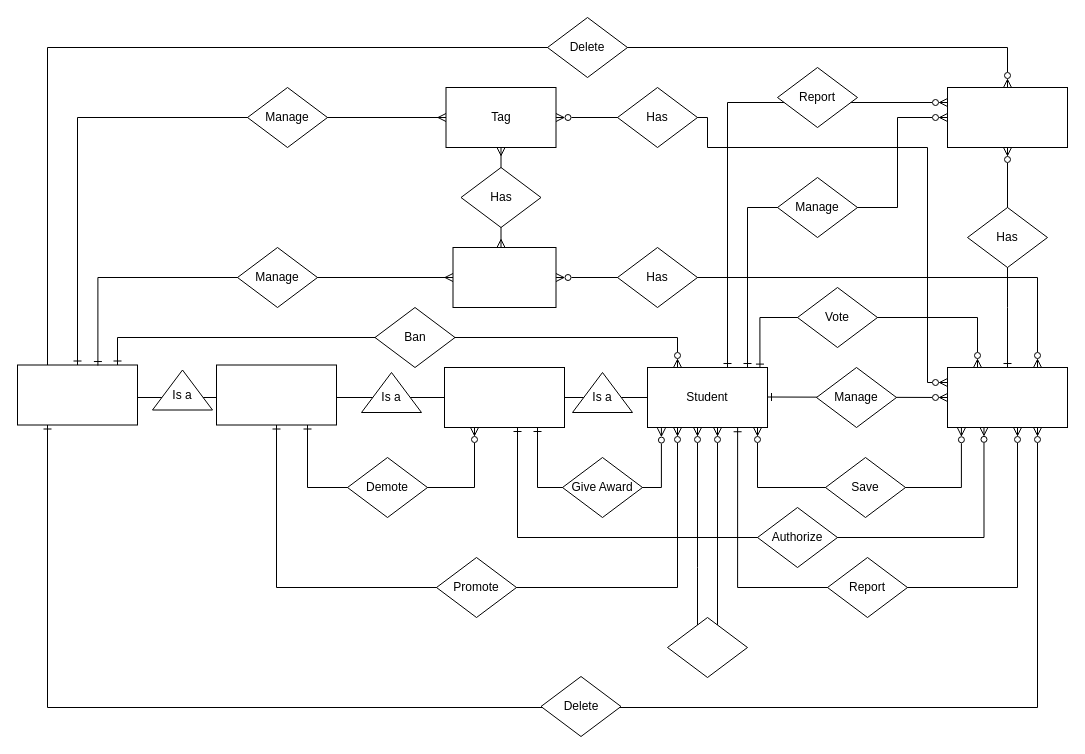
This 1085x754 diagram has some shape labels left out. The box of each missing label's shape, as (x1, y1, x2, y2) in pixels:
Admin: (16, 364, 138, 425)
Category: (452, 246, 556, 308)
Comment: (946, 86, 1068, 148)
Follow: (666, 616, 748, 678)
Lecturer: (216, 364, 336, 425)
Moderator: (444, 366, 564, 428)
Post: (946, 366, 1068, 428)
